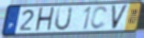1: (83, 6, 92, 31)
2: (18, 9, 36, 32)
C: (89, 5, 109, 30)
H: (34, 6, 56, 33)
U: (53, 6, 74, 32)
V: (111, 4, 130, 31)
